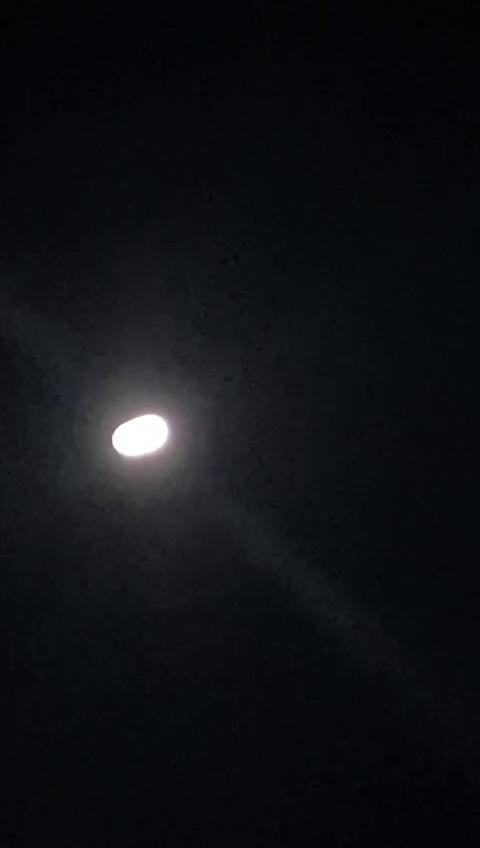moon: (108, 402, 176, 463)
